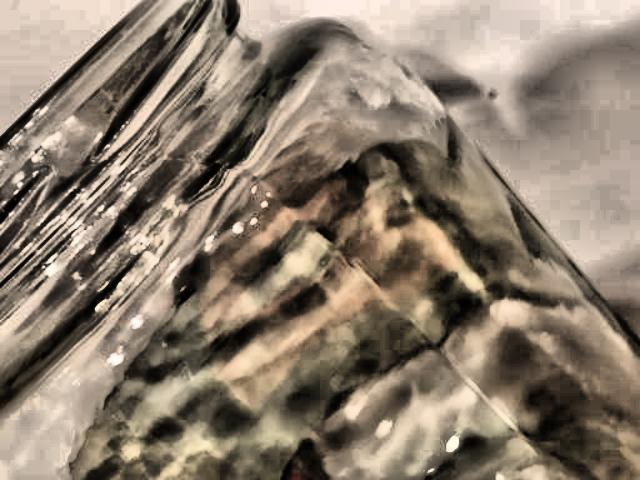Almennt: (4, 0, 640, 480)
